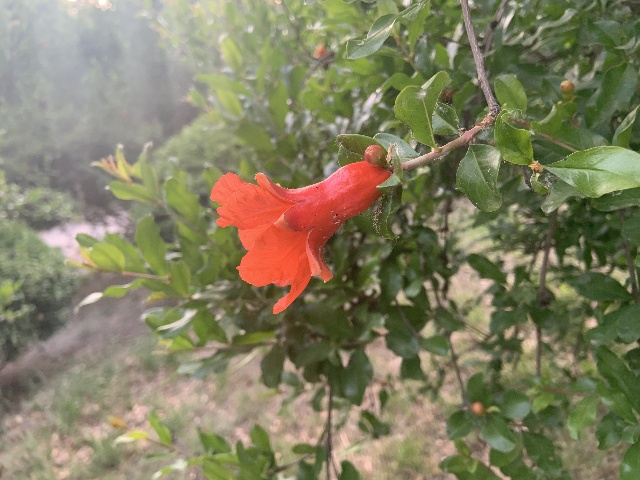bud: (364, 144, 386, 165), (559, 80, 574, 100)
flower: (210, 160, 389, 314)
